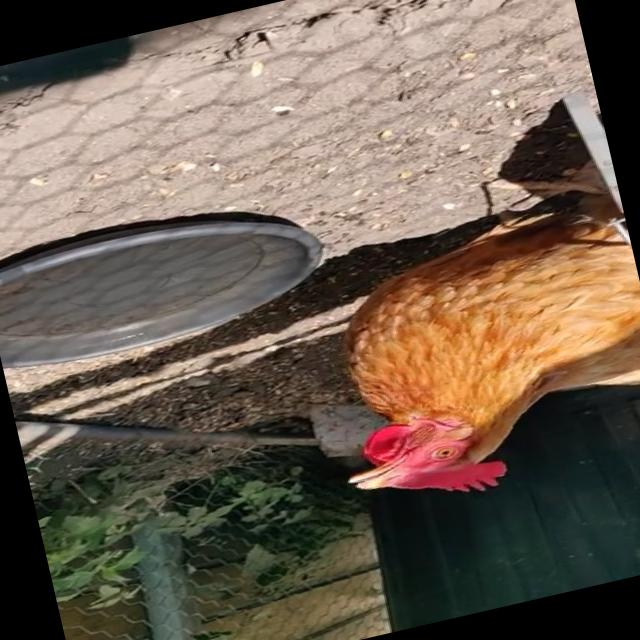drinking: (257, 187, 640, 526)
